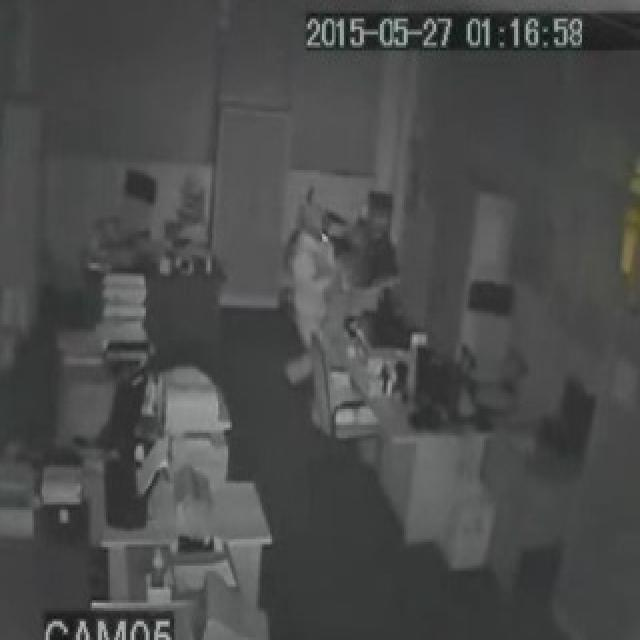thief: (283, 182, 329, 331)
